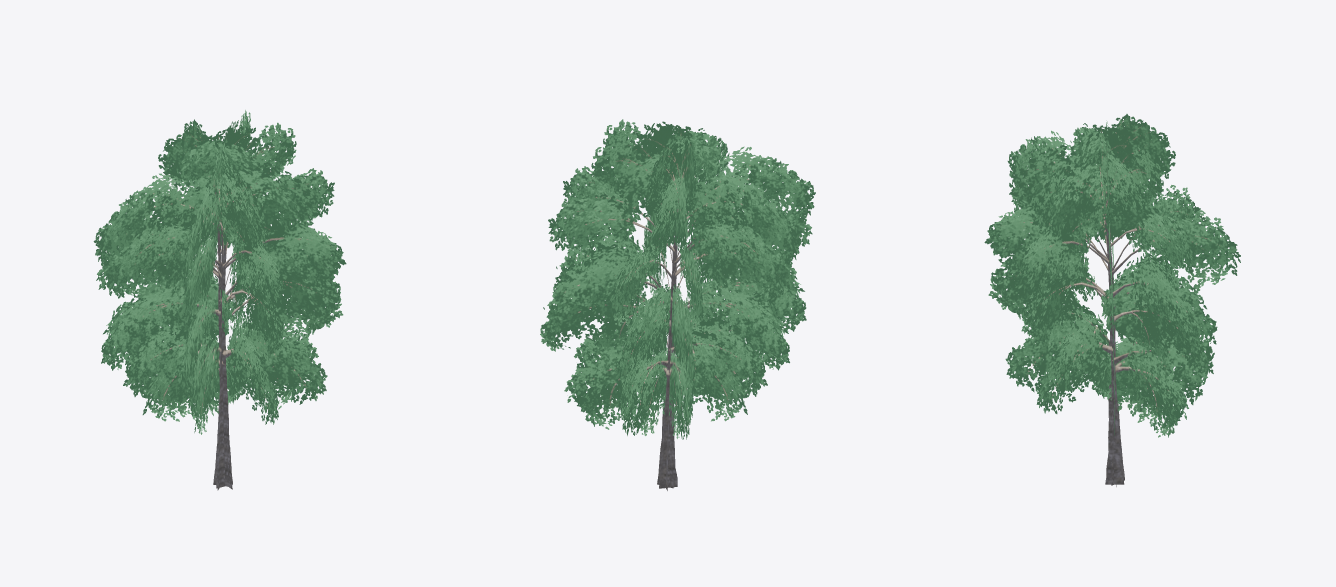
The model's file is Tree4_Low.fbx.
3 views of the same model, side by side, from view 1: azimuth 30°, elevation 25°; view 2: azimuth 150°, elevation 25°; view 3: azimuth 270°, elevation 25° (orthographic).
Parts seen in each view (by area): view 1: Lowest; view 2: Lowest; view 3: Lowest.
Boxes of the visible parts, left/top/right/bottom form: Lowest: left=93, top=110, right=346, bottom=490; Lowest: left=540, top=119, right=815, bottom=490; Lowest: left=984, top=114, right=1240, bottom=486.
Size of the model in its own units: 560 by 561 by 560.
